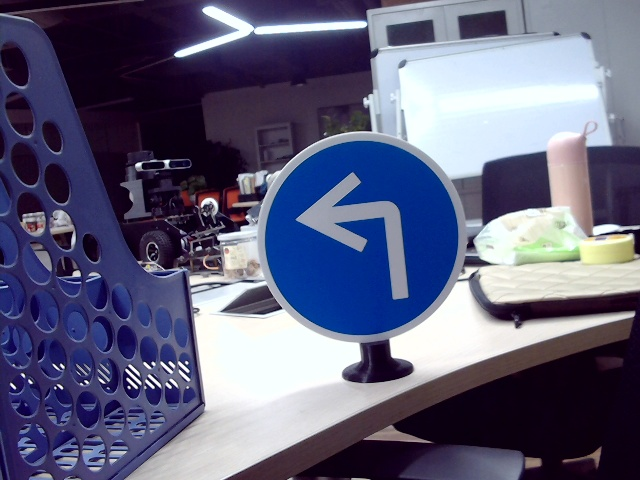turn_left: (294, 167, 415, 301)
